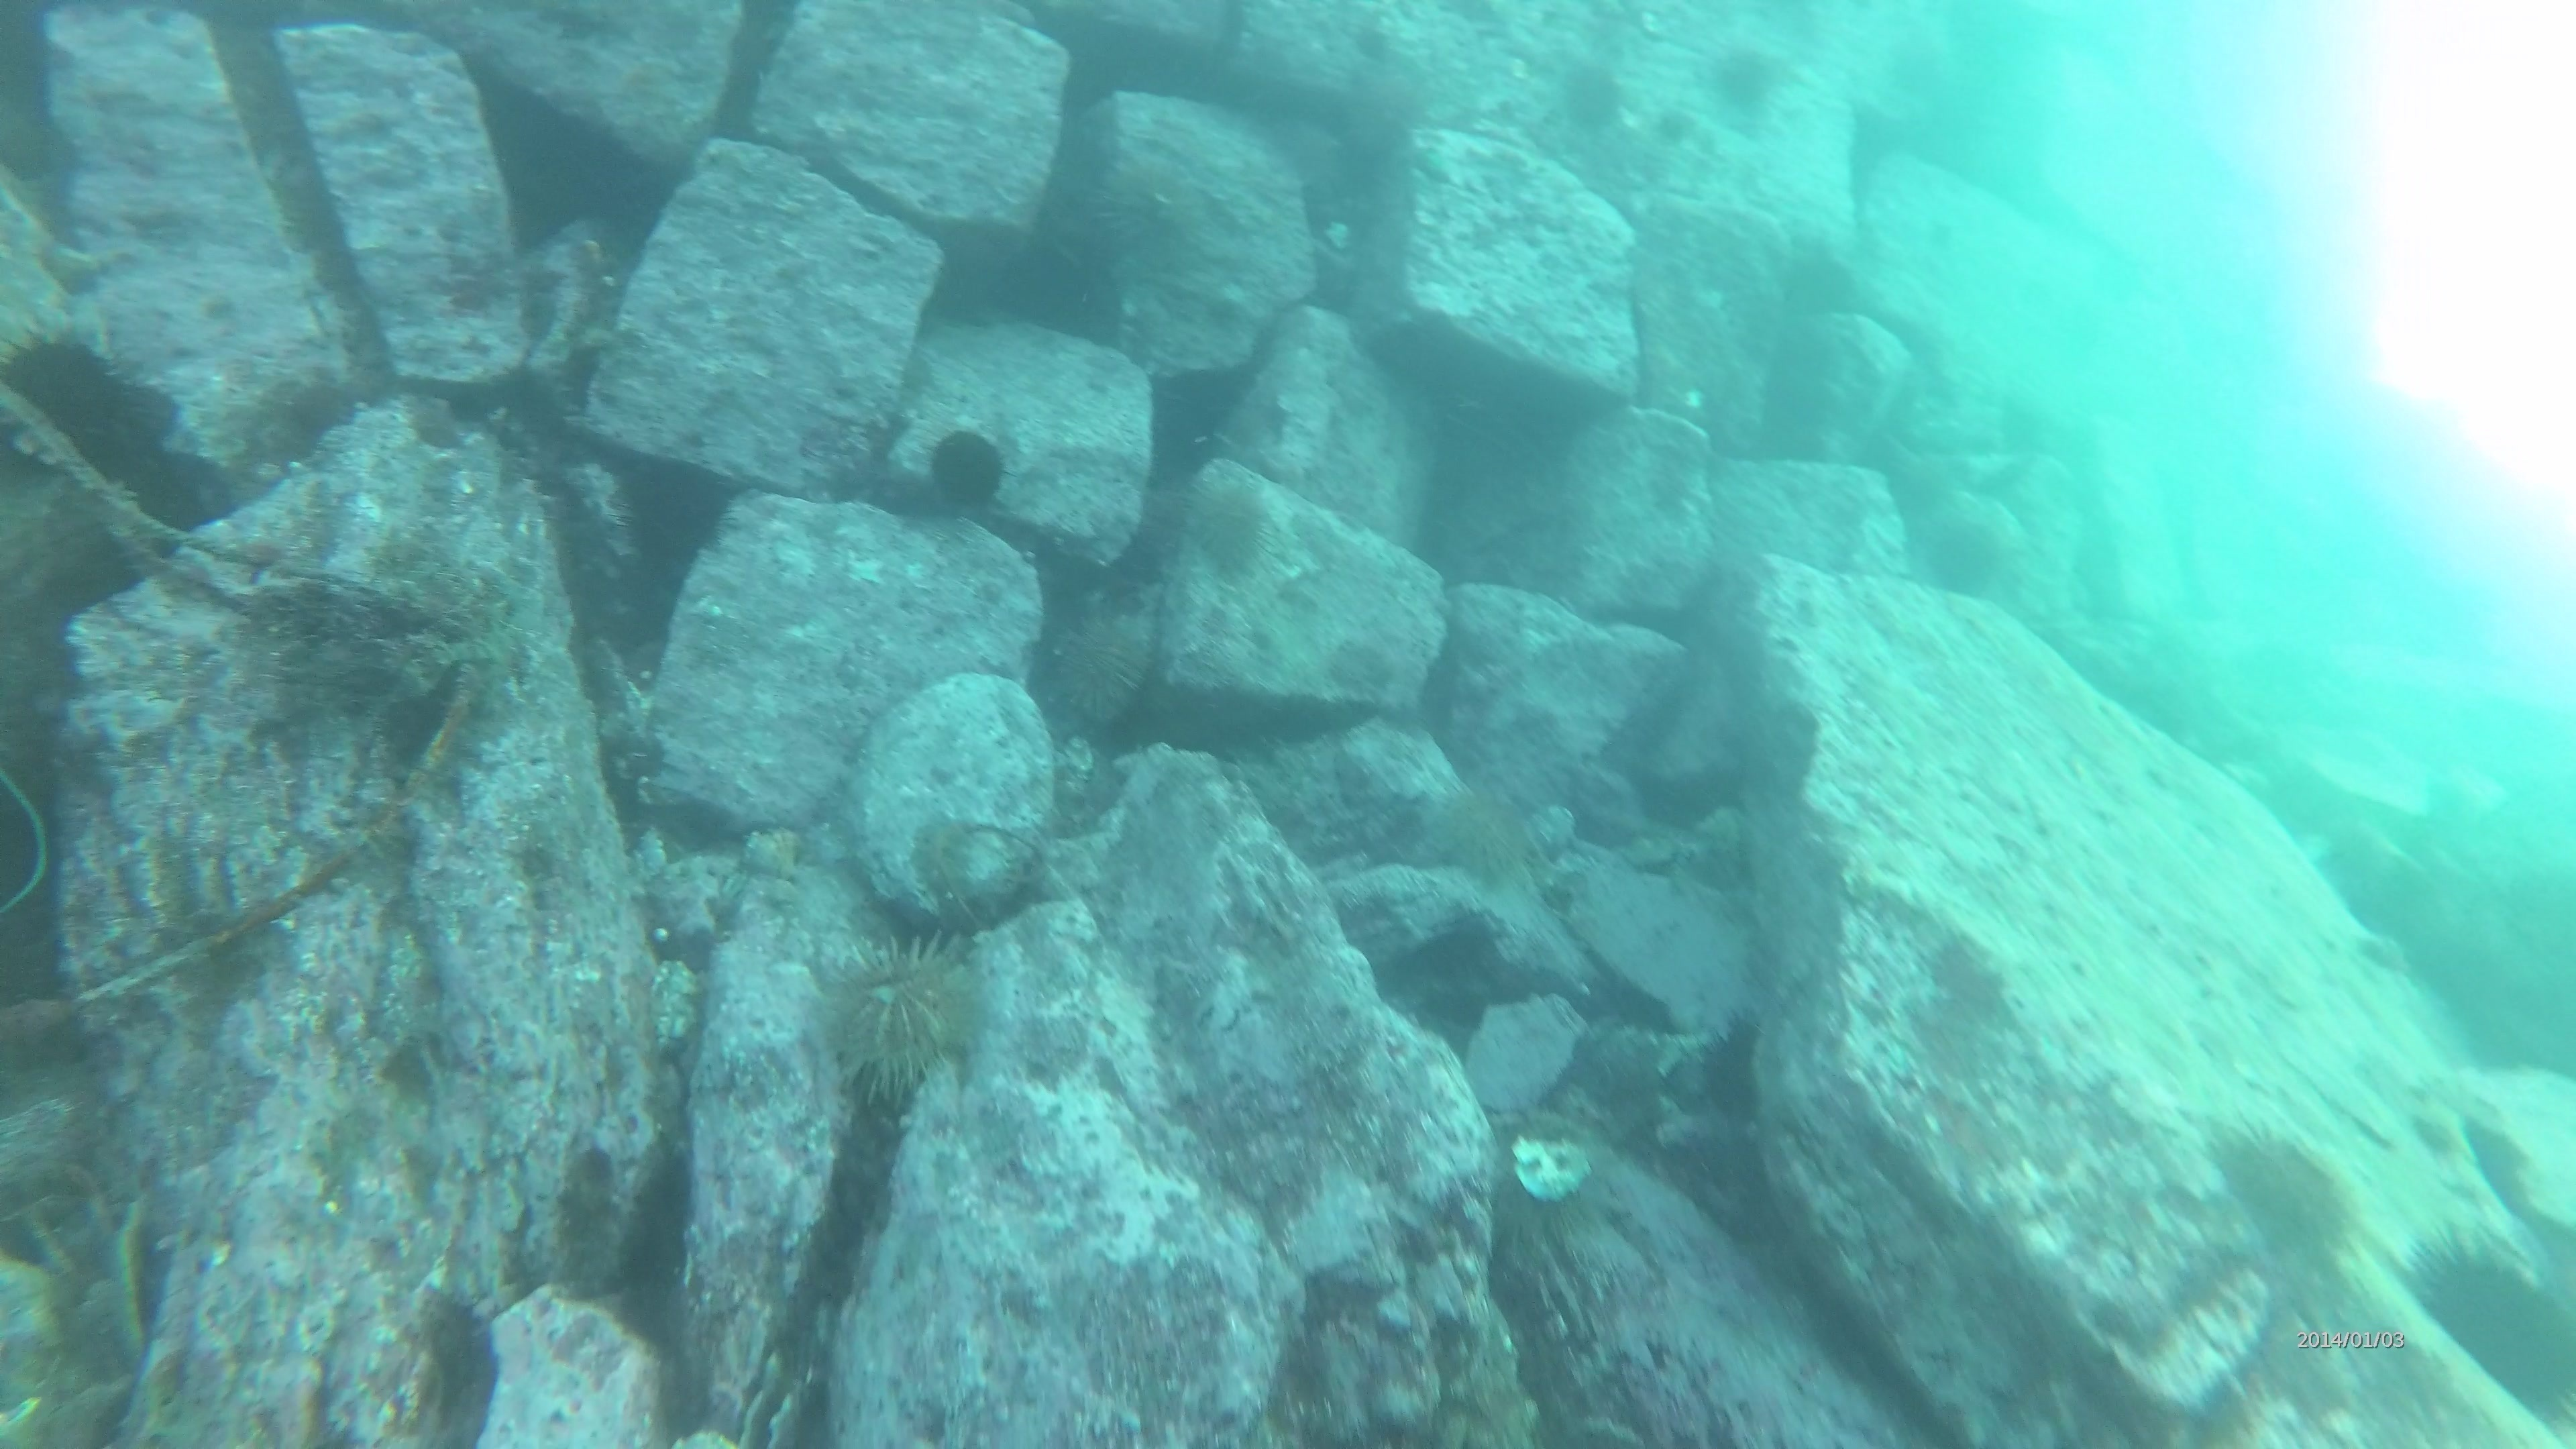echinus: (2390, 1224, 2574, 1435), (2, 318, 179, 494), (810, 925, 994, 1092), (2208, 1123, 2360, 1270), (1028, 598, 1166, 740), (1177, 460, 1279, 586), (916, 421, 1017, 522), (1442, 789, 1532, 881), (1698, 41, 1790, 127), (1548, 55, 1635, 143), (1711, 1021, 1767, 1109)
